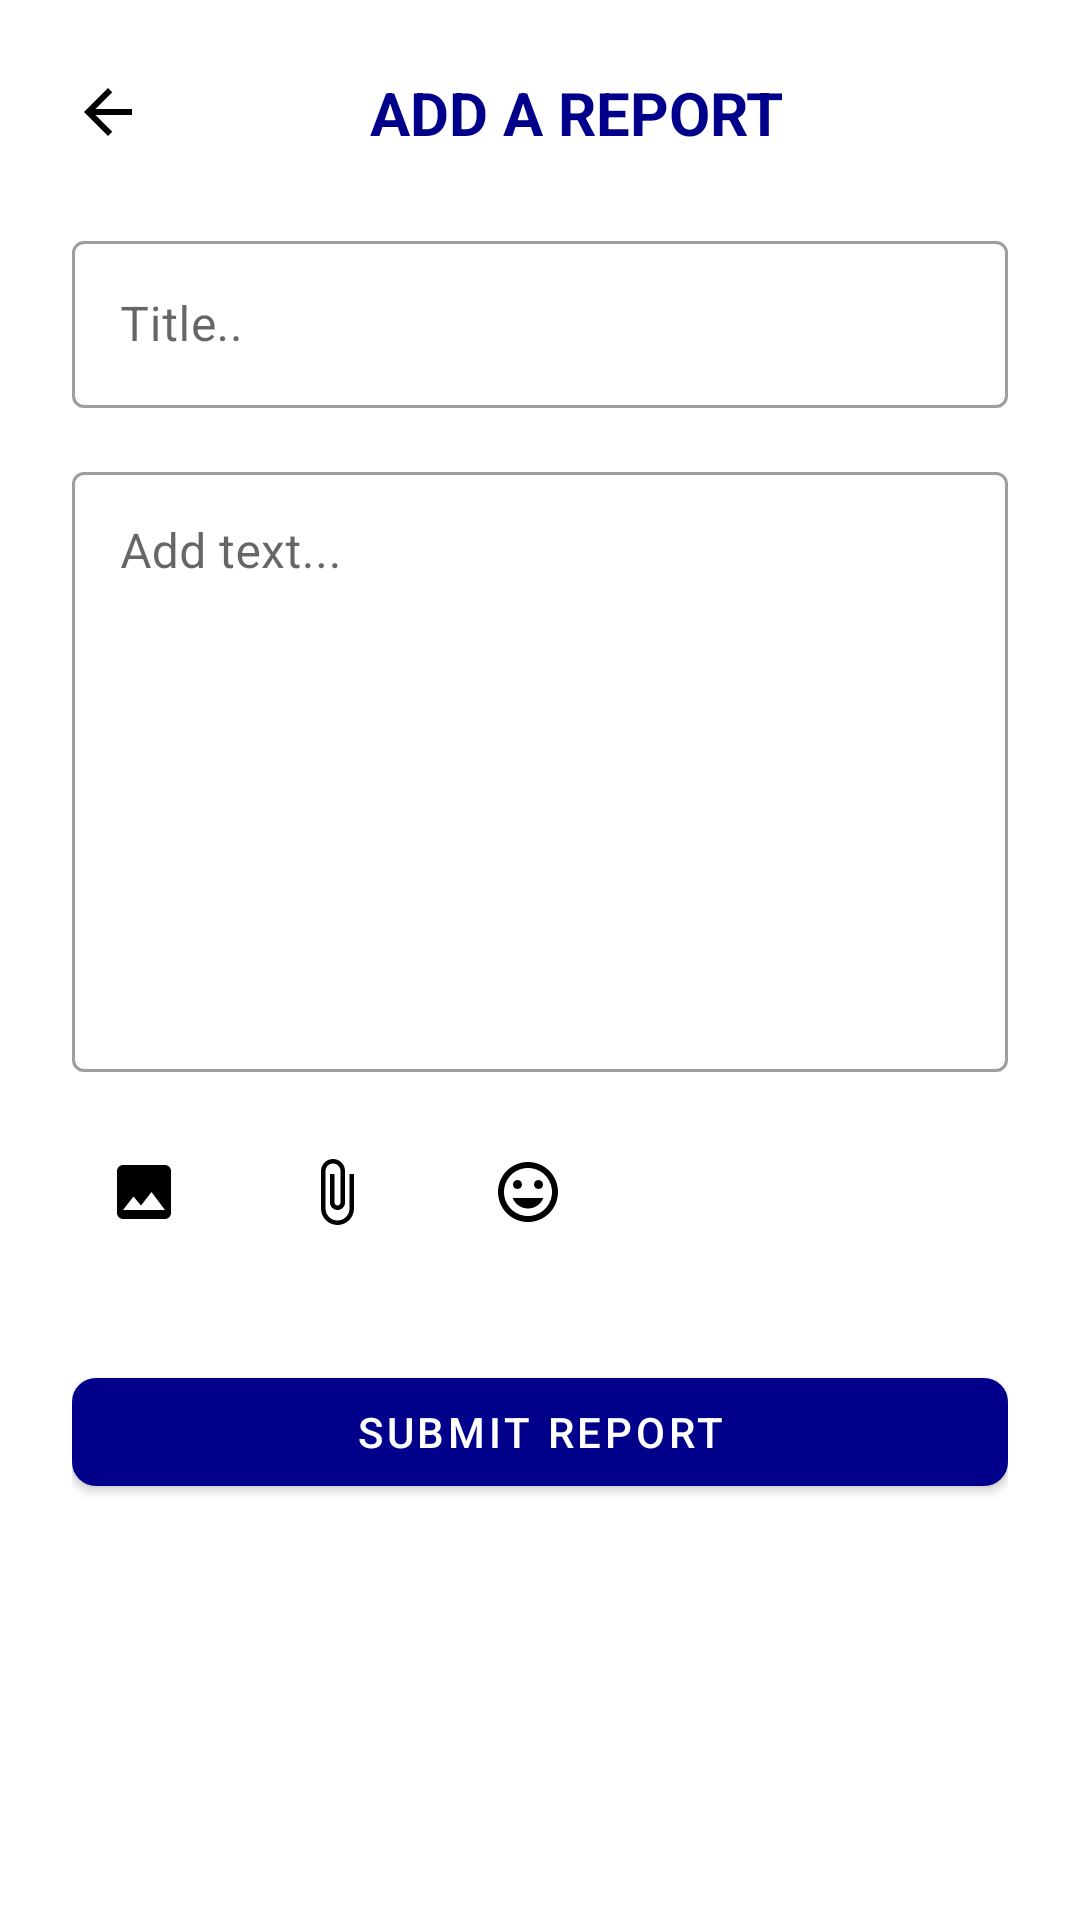

Icons on this 1080px×1920px Android screen, each with its box as (x1, y1, x2, y2):
attachment: (321, 1159, 354, 1225)
back: (84, 88, 132, 136)
emoji: (498, 1162, 558, 1222)
